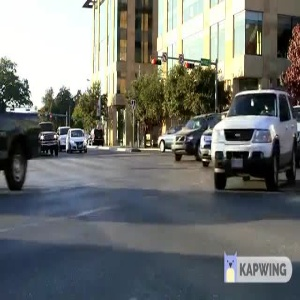car: (62, 129, 95, 158)
suv: (205, 87, 300, 203)
